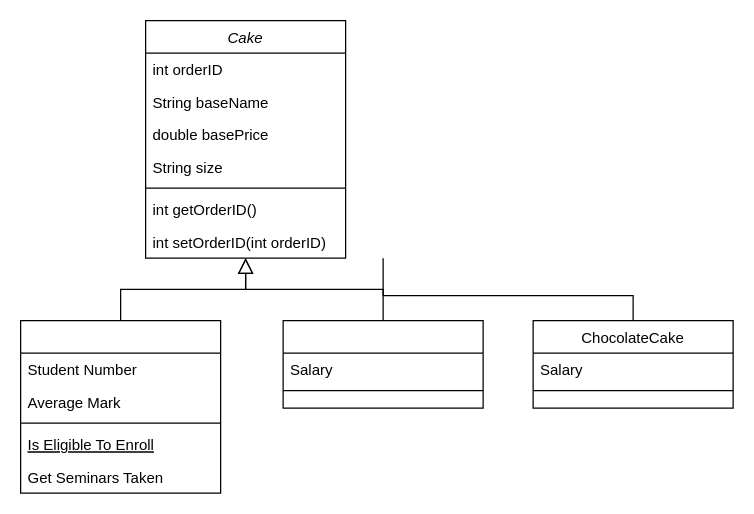
This 754x514 diagram has some shape labels left out. Each missing label, with the box of its shape:
AppleCake: (19, 319, 221, 493)
CheeseCake: (282, 319, 483, 408)
